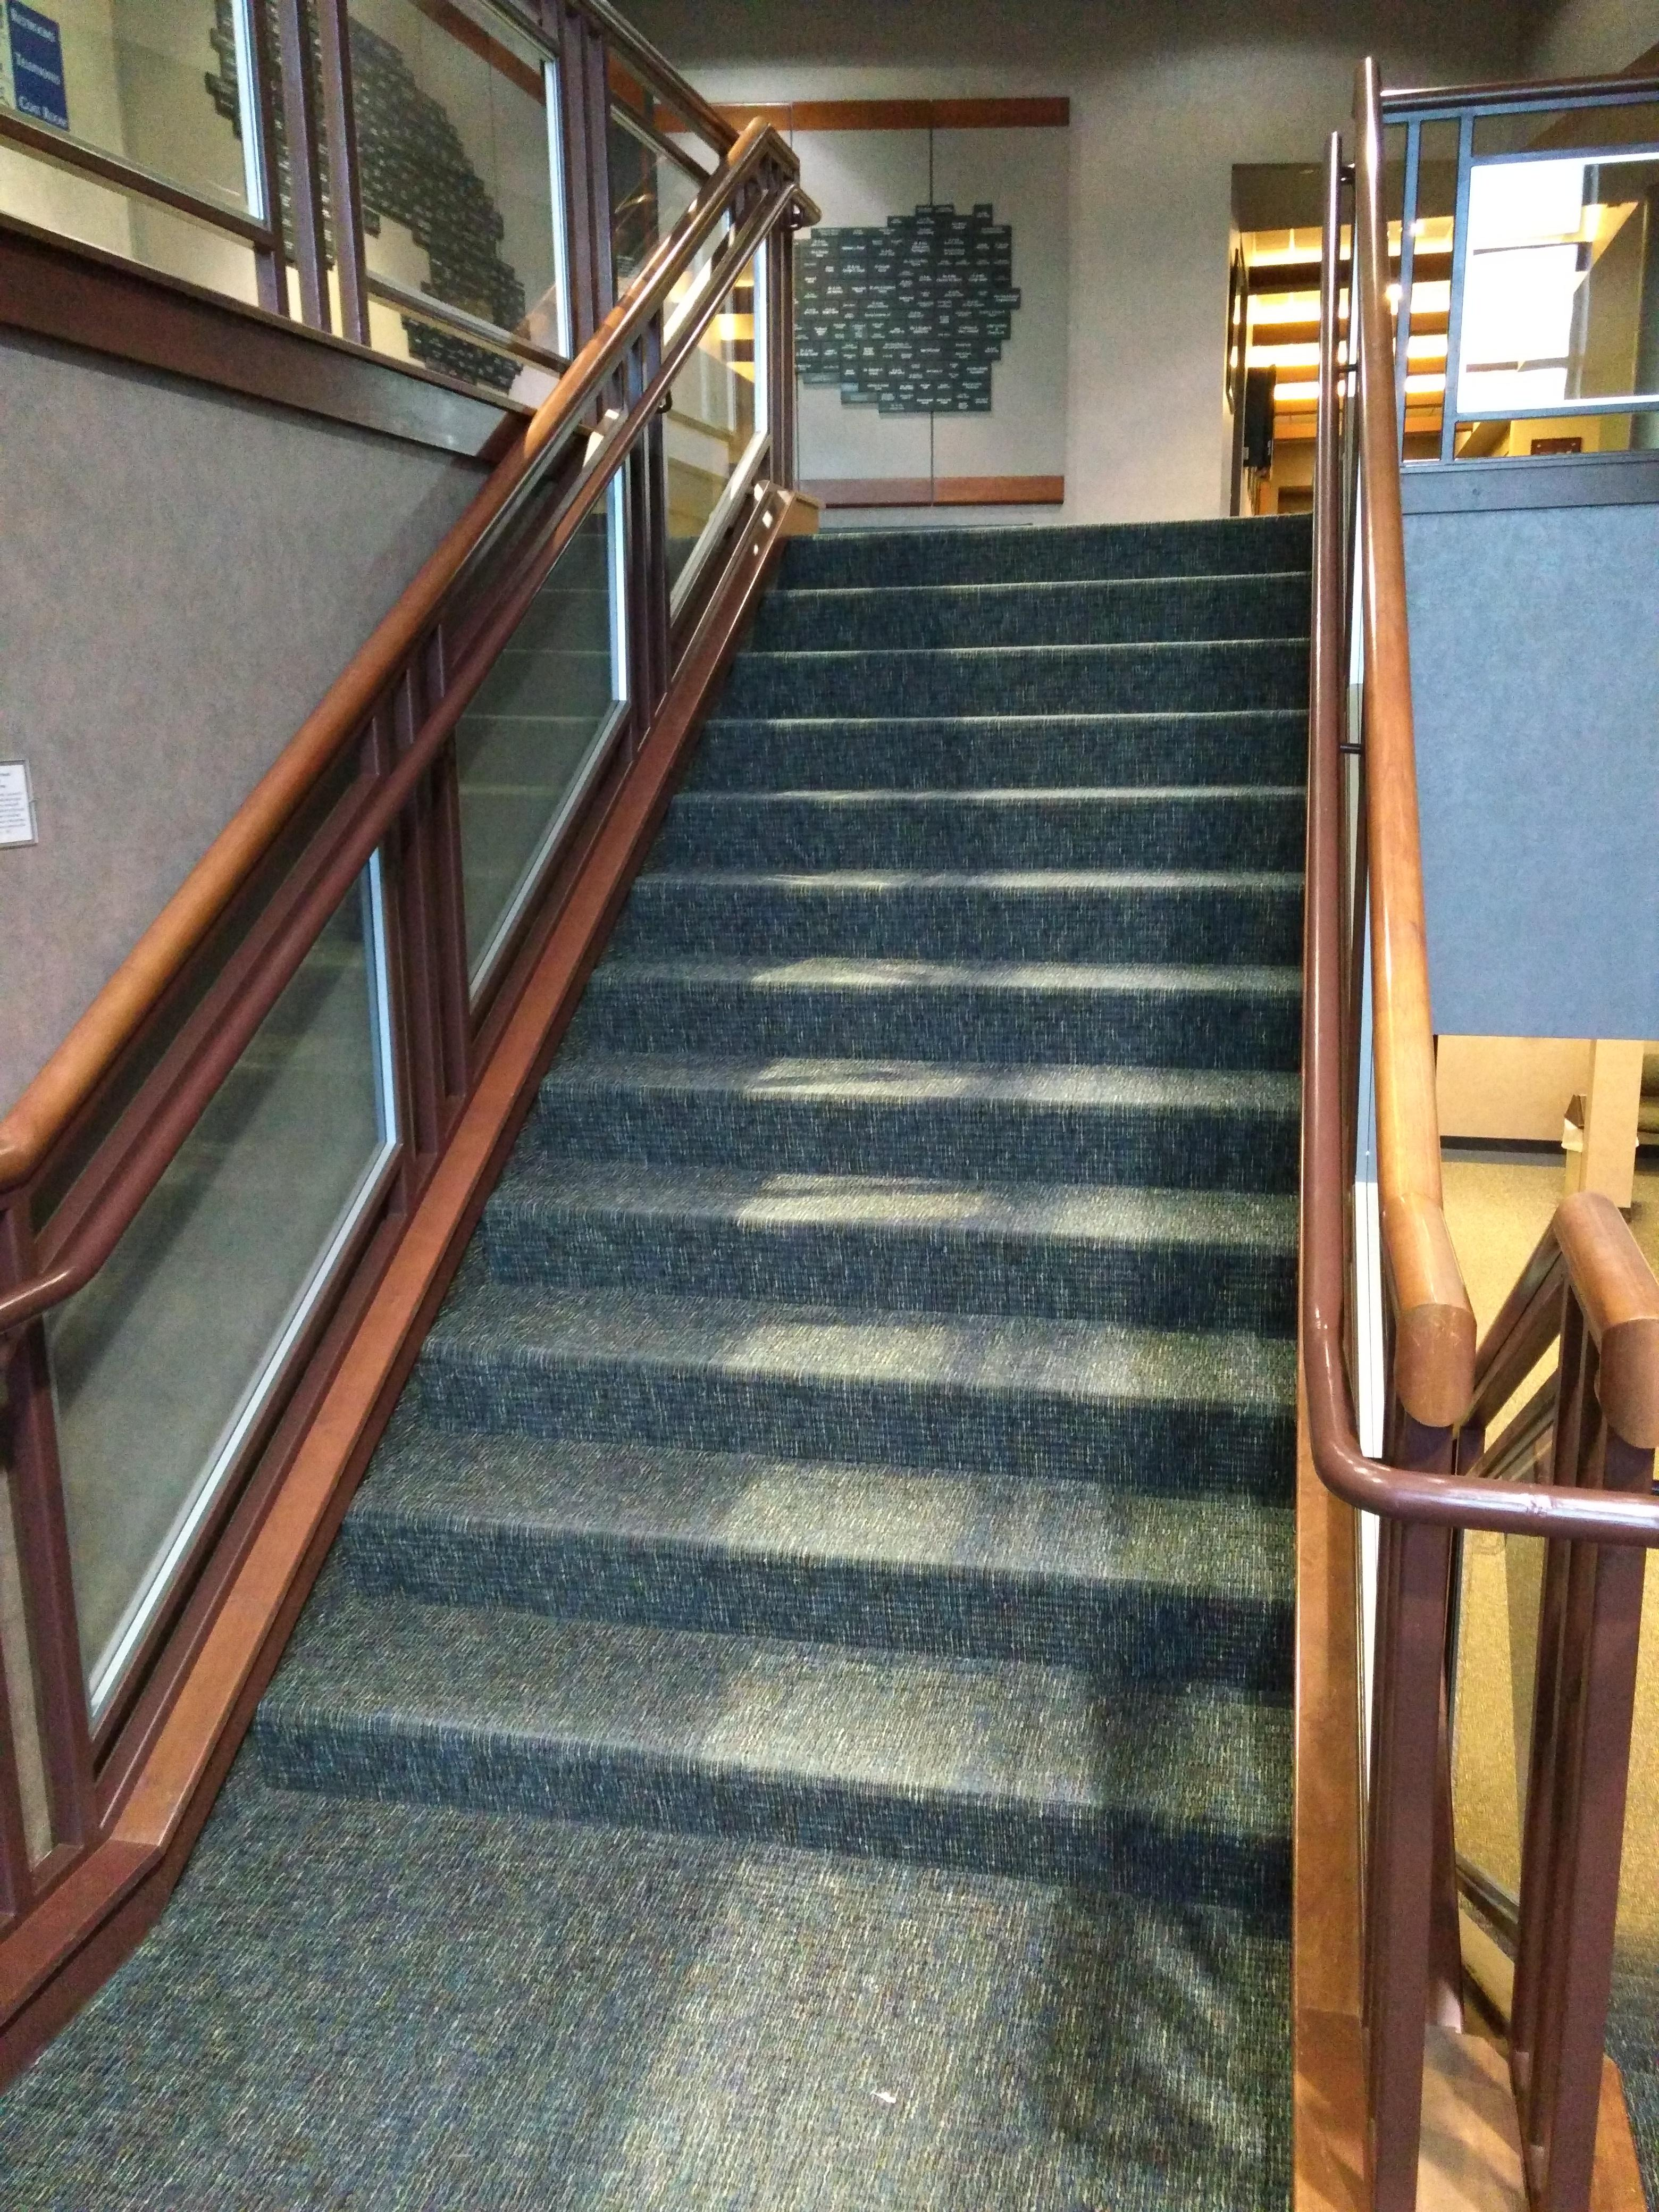stairs_up: (221, 481, 1321, 1888)
